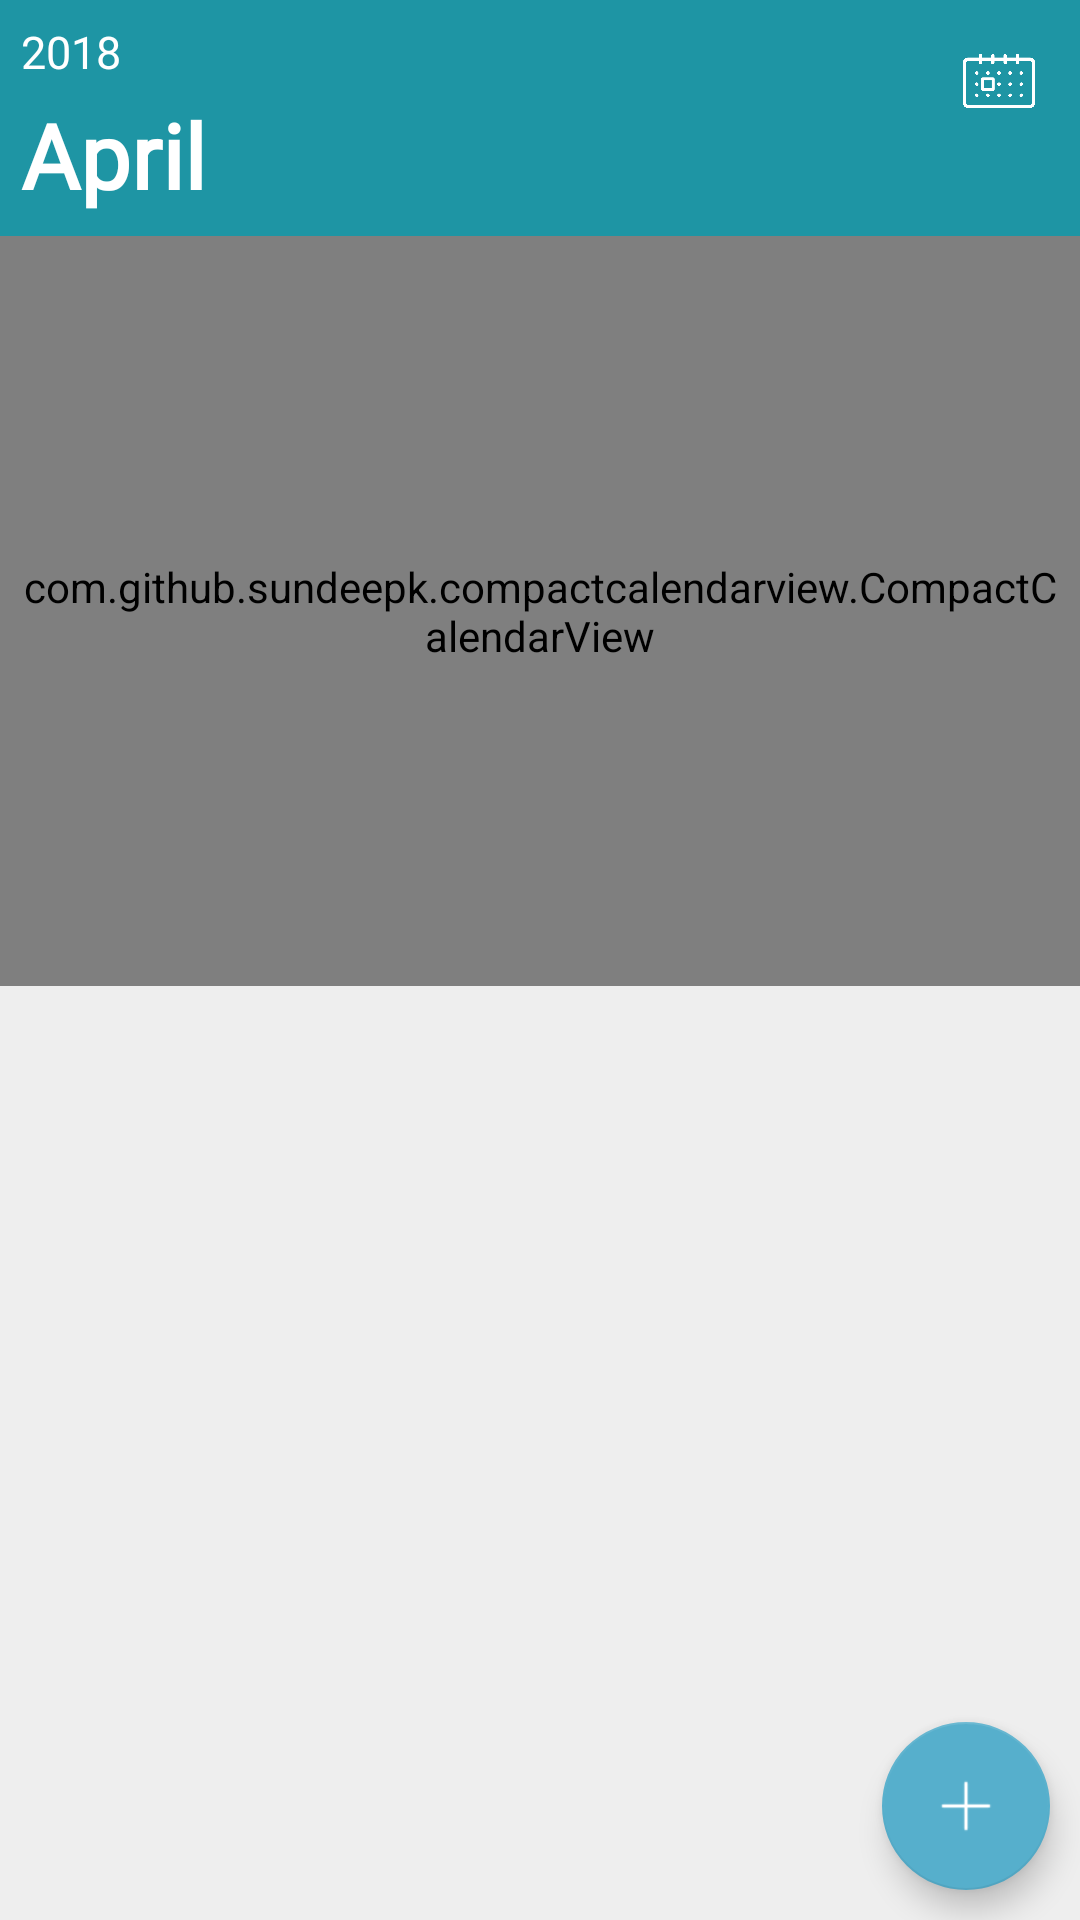

Icon click points for this 1080 × 1920 phone screenshot, format (x=x, y=y):
add: (x=966, y=1806)
calendarrr: (x=999, y=81)
